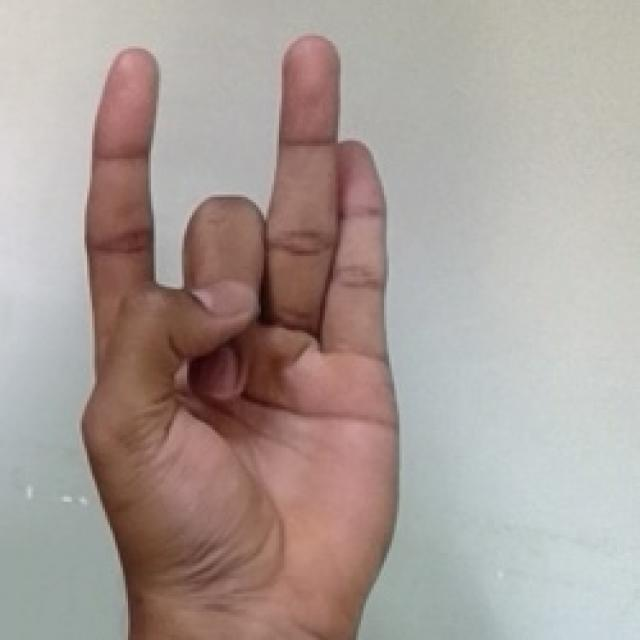Numeric-8: (80, 35, 400, 618)
